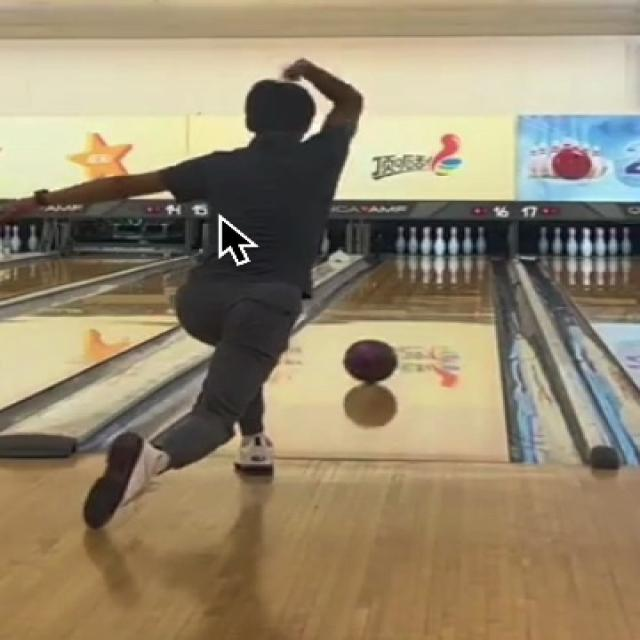alley: (265, 256, 510, 464)
balls: (343, 338, 400, 384)
bottle: (384, 225, 494, 256)
